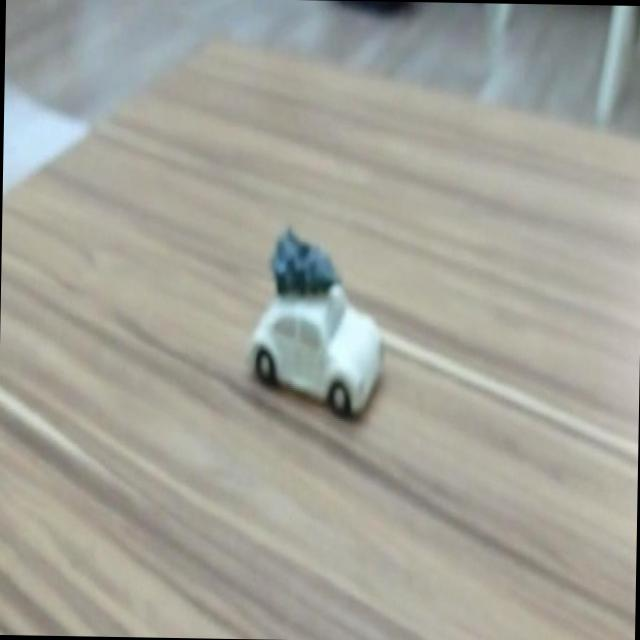car: (252, 291, 386, 403)
